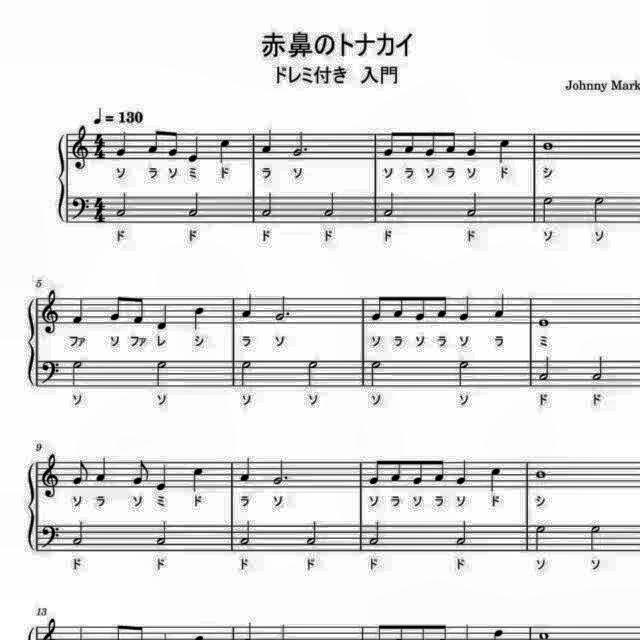Bass-clef: (38, 356, 64, 386), (68, 194, 92, 222), (38, 522, 62, 550)
Eighth-note: (130, 457, 152, 487), (70, 457, 90, 487), (412, 292, 430, 324), (410, 454, 428, 486), (378, 128, 396, 160), (368, 290, 386, 322), (389, 290, 406, 322), (132, 291, 148, 325), (166, 126, 182, 158), (422, 128, 438, 160), (110, 291, 126, 323), (366, 456, 382, 488), (386, 457, 402, 488), (436, 292, 452, 322), (404, 127, 420, 157), (146, 127, 162, 157), (444, 128, 460, 156), (432, 454, 446, 484)
Full-note: (538, 138, 556, 154), (536, 315, 552, 329), (532, 468, 548, 480)
Half-dot: (274, 292, 294, 324), (290, 128, 310, 160), (270, 457, 290, 487)
Half-note: (589, 192, 609, 225), (462, 190, 482, 220), (152, 517, 172, 547), (452, 517, 472, 547), (589, 354, 607, 386), (69, 356, 87, 388), (455, 358, 473, 390), (366, 359, 384, 391), (237, 357, 255, 389), (151, 358, 169, 390), (534, 525, 552, 557), (540, 194, 558, 226), (587, 522, 605, 554), (536, 355, 554, 385), (381, 190, 399, 220), (70, 517, 88, 547), (237, 517, 255, 547), (185, 189, 203, 219), (306, 358, 322, 390), (324, 190, 341, 220), (305, 518, 323, 546), (260, 190, 278, 218), (114, 190, 130, 220), (366, 518, 382, 546)
Quarter-note: (69, 294, 87, 328), (153, 462, 171, 494), (188, 132, 205, 164), (487, 465, 505, 495), (188, 465, 206, 495), (93, 454, 111, 484), (495, 135, 513, 165), (156, 301, 172, 333), (464, 129, 481, 159), (454, 457, 471, 487), (492, 291, 508, 321), (240, 291, 256, 321), (260, 127, 276, 157), (216, 135, 232, 165), (456, 294, 472, 324), (238, 453, 254, 483), (190, 304, 207, 332), (114, 130, 130, 158)
Treble-clef: (40, 451, 62, 501), (39, 288, 61, 338), (69, 122, 91, 172)
